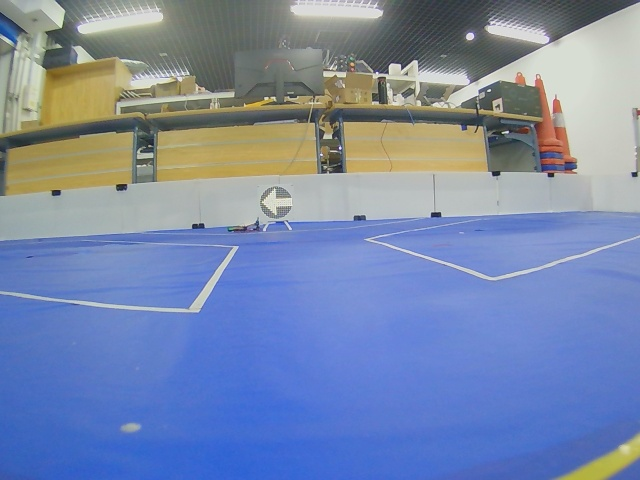left_yellow: (260, 186, 293, 219)
